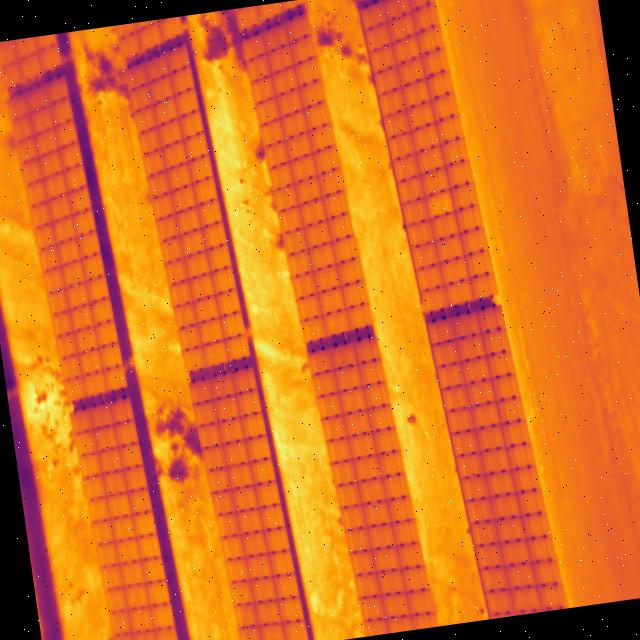Hotspot: (431, 192, 451, 214)
